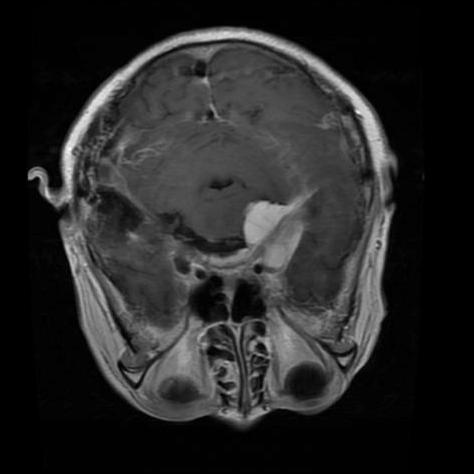Tumour-Meningioma: (207, 163, 348, 279)
